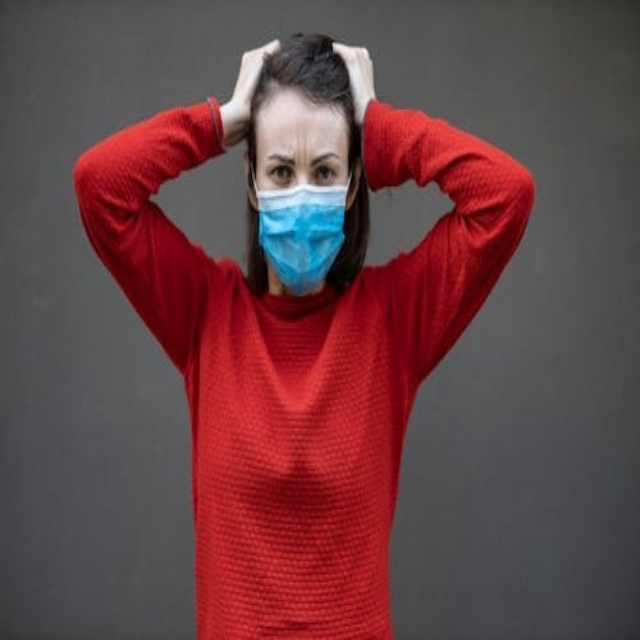Mascara: (253, 174, 350, 293)
Sin_gafas: (256, 144, 346, 196)
Sin_guantes: (219, 40, 282, 148), (325, 29, 383, 119)
